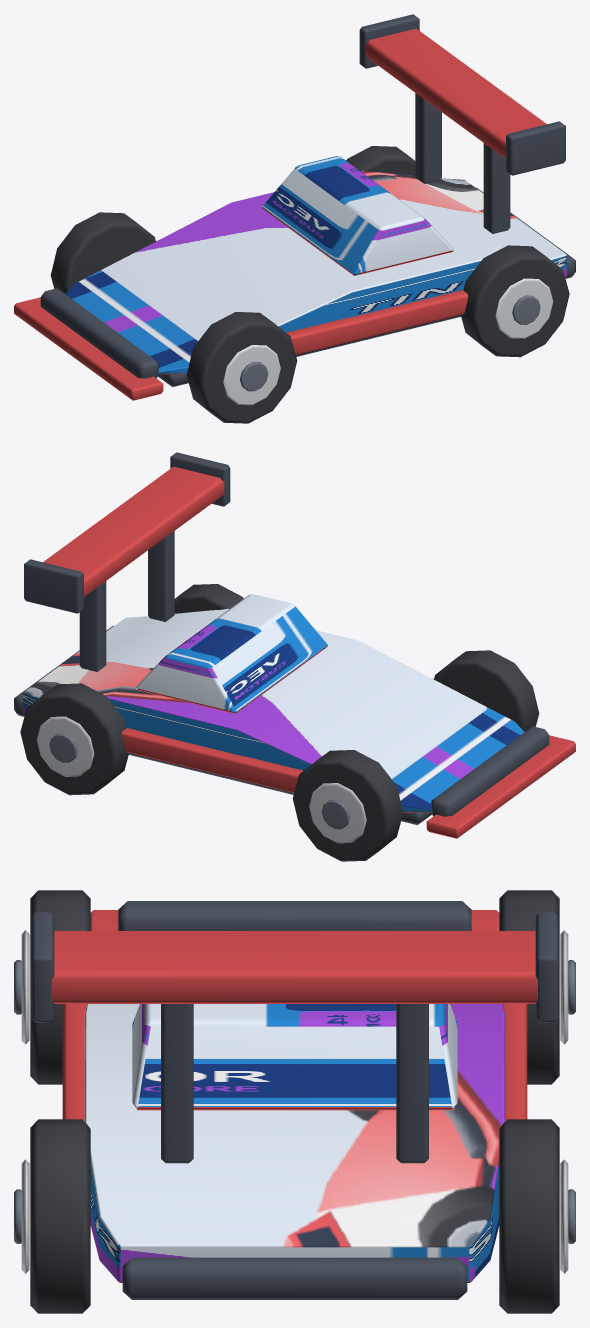
3 renders of one model, top to bottom at view 1: azimuth 30°, elevation 25°; view 2: azimuth 150°, elevation 25°; view 3: azimuth 270°, elevation 25°, orthographic. The views are drawn at different scales.
Visible parts, largest first — view 1: FF-05_connected_shell, FF-05_cabin, rear airfoil, Tire, Tire.002, Tire.001, custom side guard, custom chin, front bumper, wing endplate, wing support, wing support.001 (+7 smaller); view 2: FF-05_connected_shell, FF-05_cabin, rear airfoil, Tire.001, Tire.003, Tire, custom side guard.001, custom chin, front bumper, wing endplate.001, wing support.001, wing support (+7 smaller); view 3: FF-05_connected_shell, rear airfoil, FF-05_cabin, rear bumper, Tire.002, Tire.003, front bumper, wing support, wing support.001, Tire, Tire.001, custom side guard (+8 smaller).
Part boxes in pixels (bbox=[...]): FF-05_connected_shell: bbox=[65, 170, 566, 374]; FF-05_cabin: bbox=[262, 156, 453, 275]; rear airfoil: bbox=[365, 28, 546, 158]; Tire: bbox=[186, 312, 297, 423]; Tire.002: bbox=[461, 245, 569, 357]; Tire.001: bbox=[50, 212, 155, 293]; custom side guard: bbox=[286, 290, 468, 354]; custom chin: bbox=[14, 297, 163, 400]; front bumper: bbox=[40, 288, 158, 378]; wing endplate: bbox=[506, 121, 565, 175]; wing support: bbox=[483, 143, 510, 233]; wing support.001: bbox=[415, 93, 441, 183]; FF-05_connected_shell: bbox=[23, 608, 524, 812]; FF-05_cabin: bbox=[136, 594, 327, 713]; rear airfoil: bbox=[43, 466, 224, 596]; Tire.001: bbox=[292, 750, 403, 861]; Tire.003: bbox=[20, 683, 128, 795]; Tire: bbox=[434, 650, 539, 731]; custom side guard.001: bbox=[121, 728, 303, 792]; custom chin: bbox=[426, 735, 575, 838]; front bumper: bbox=[431, 726, 549, 816]; wing endplate.001: bbox=[24, 559, 83, 613]; wing support.001: bbox=[79, 581, 106, 671]; wing support: bbox=[148, 531, 174, 621]; FF-05_connected_shell: bbox=[84, 1004, 505, 1282]; rear airfoil: bbox=[52, 931, 537, 1003]; FF-05_cabin: bbox=[132, 1004, 457, 1110]; rear bumper: bbox=[122, 1257, 467, 1299]; Tire.002: bbox=[30, 1119, 90, 1313]; Tire.003: bbox=[499, 1119, 559, 1313]; front bumper: bbox=[118, 901, 471, 930]; wing support: bbox=[161, 1004, 193, 1163]; wing support.001: bbox=[396, 1004, 428, 1163]; Tire: bbox=[30, 890, 90, 1084]; Tire.001: bbox=[499, 890, 559, 1084]; custom side guard: bbox=[62, 1004, 86, 1121].
Bounding box in the file's own units: 391 × 183 × 242.
